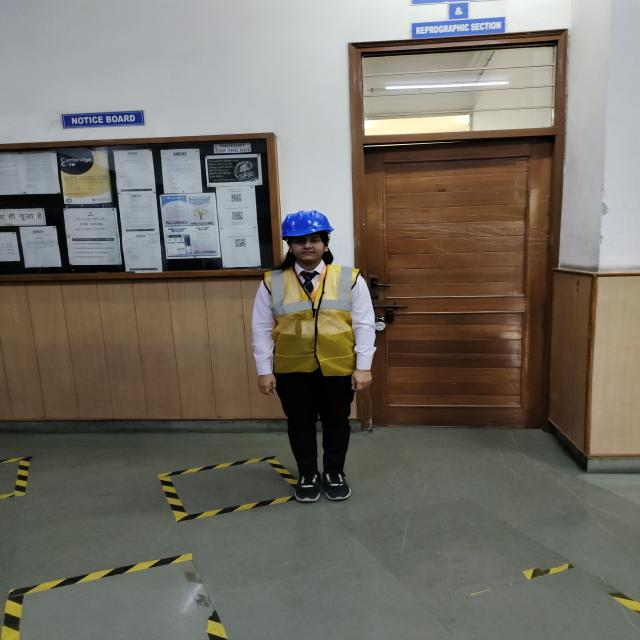safe: (262, 211, 374, 499)
